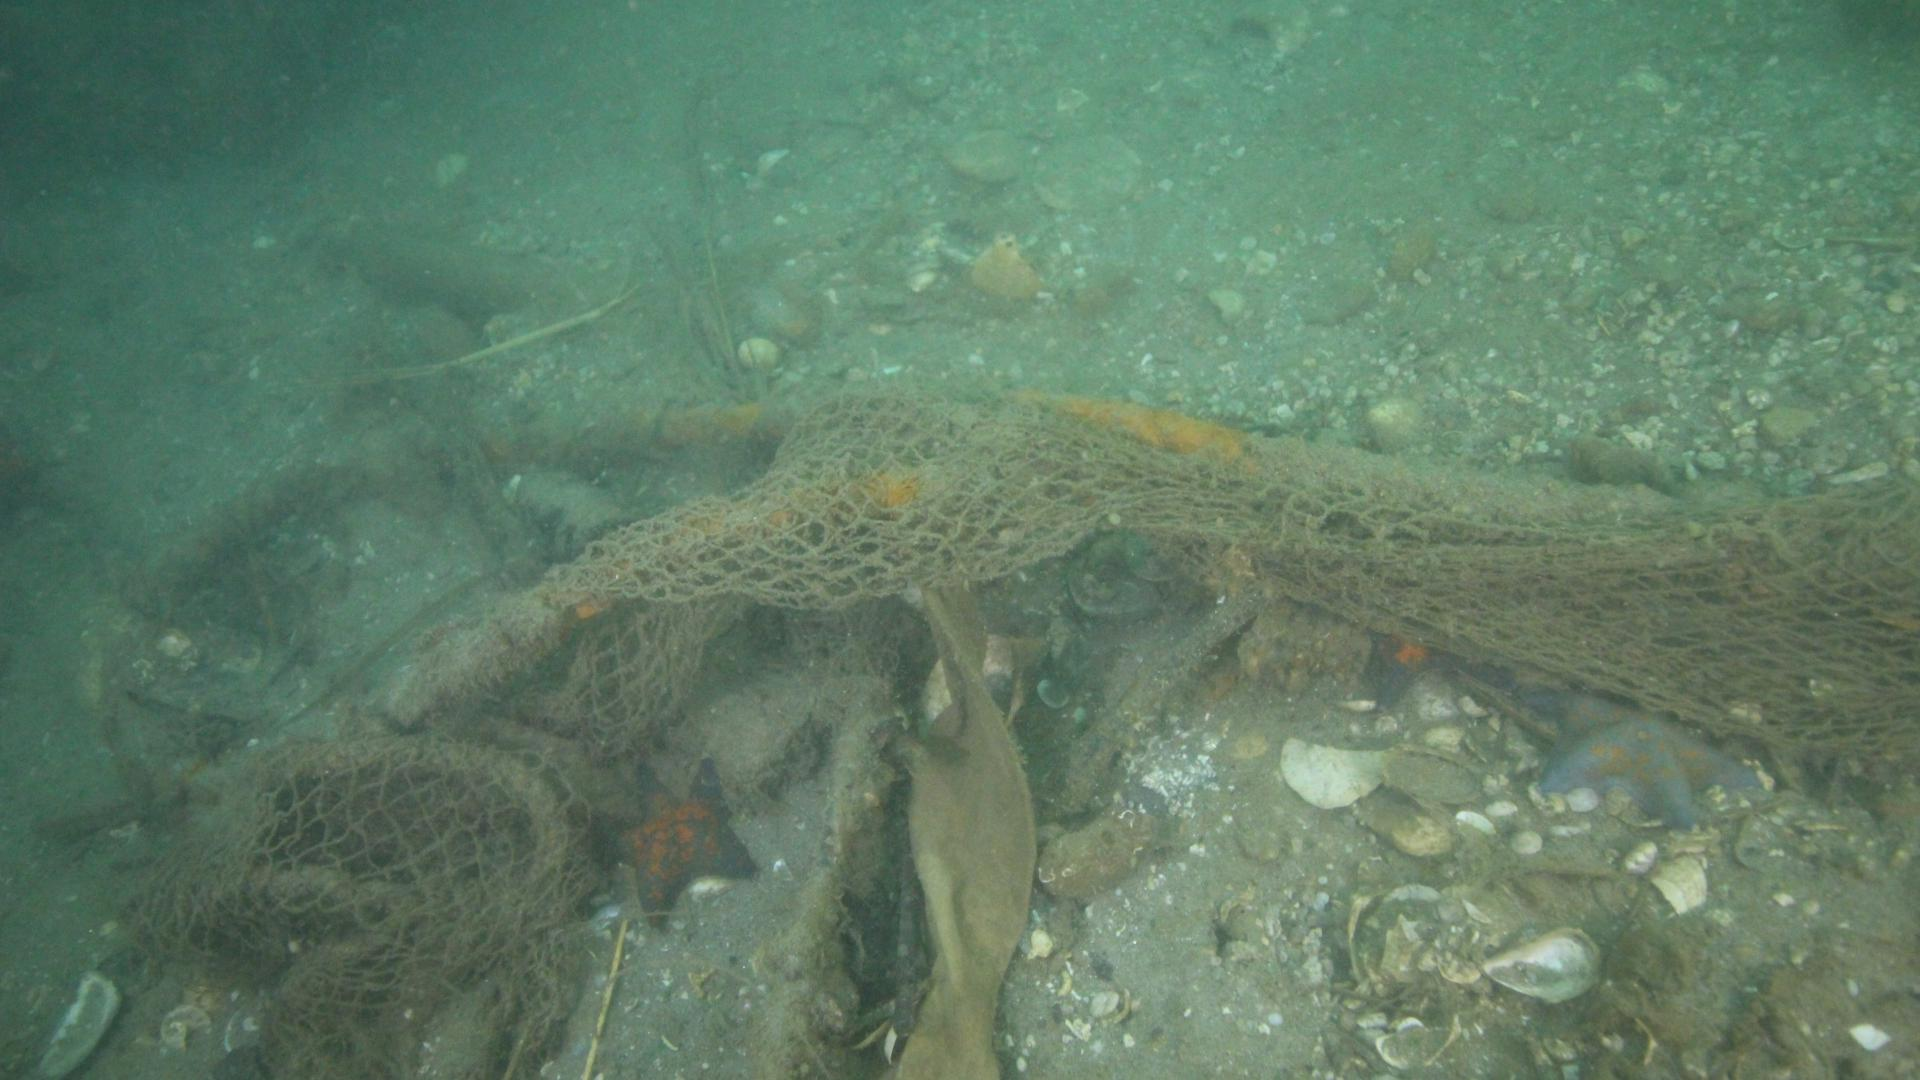fish net: (135, 396, 1920, 1080)
